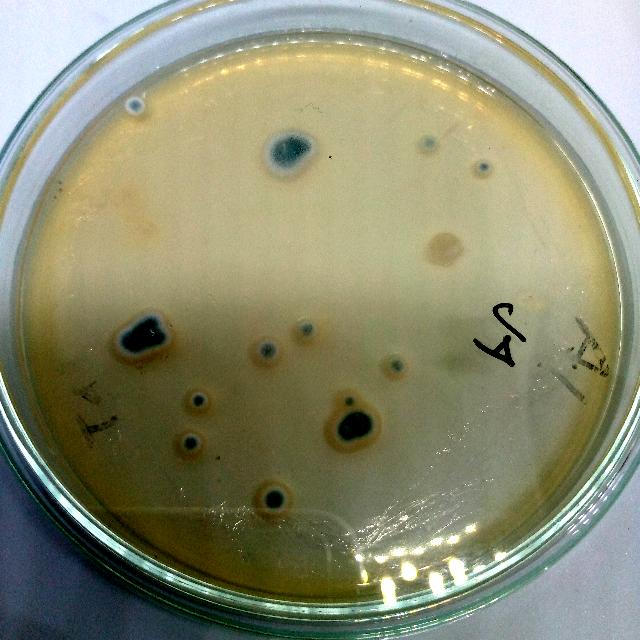colony: (264, 125, 322, 181), (418, 228, 466, 272), (253, 479, 295, 521), (110, 324, 150, 366), (345, 408, 377, 438), (176, 431, 208, 461), (253, 338, 284, 367), (294, 316, 324, 344), (142, 324, 170, 354), (136, 309, 166, 335), (332, 416, 358, 446), (384, 354, 410, 382), (416, 130, 440, 158), (336, 388, 362, 412), (187, 390, 213, 414), (120, 94, 146, 118), (470, 154, 494, 180)
